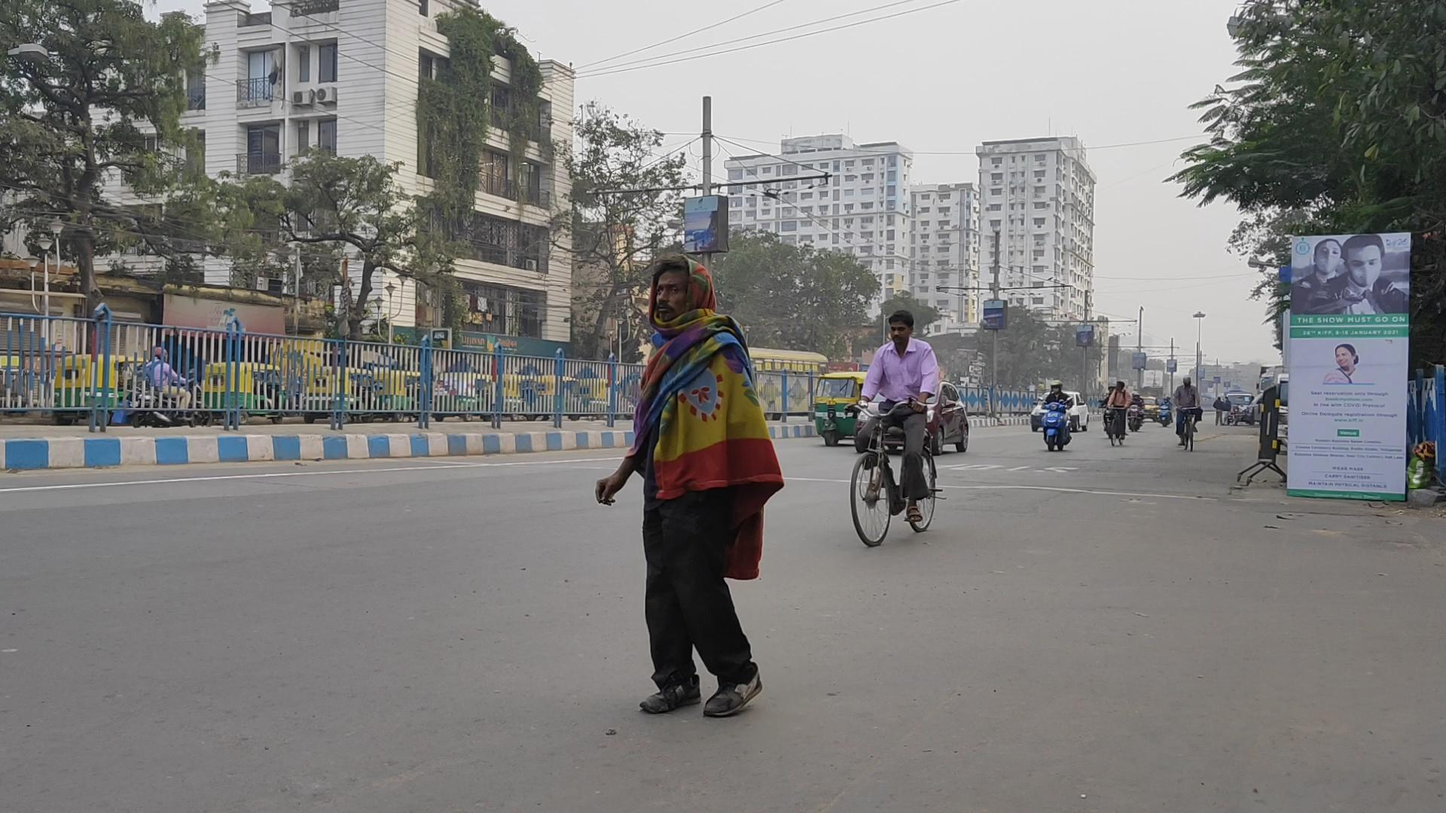Auto: (812, 371, 873, 446)
bike: (850, 310, 947, 547), (1038, 379, 1073, 452), (1106, 381, 1133, 446), (1127, 391, 1146, 433)
car: (855, 379, 969, 456), (1031, 390, 1090, 433), (1224, 389, 1254, 427), (1139, 394, 1160, 422), (1157, 396, 1174, 428)
